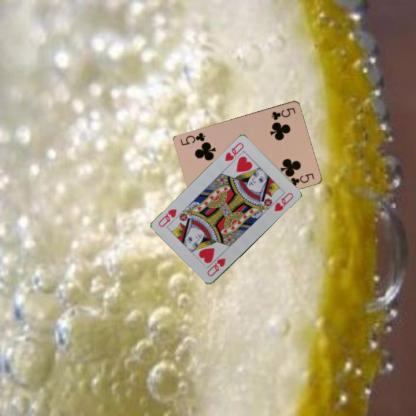5c: (268, 104, 298, 121)
Qh: (222, 140, 245, 163), (204, 256, 228, 278)
